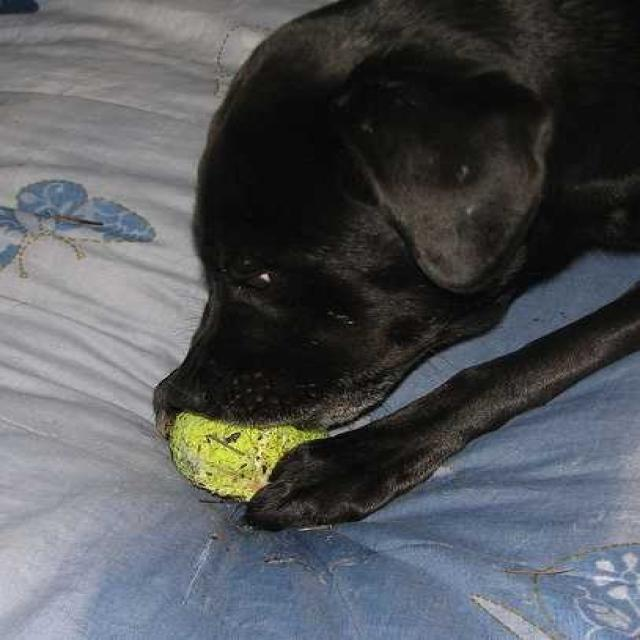Tennis_Ball: (169, 414, 328, 502)
